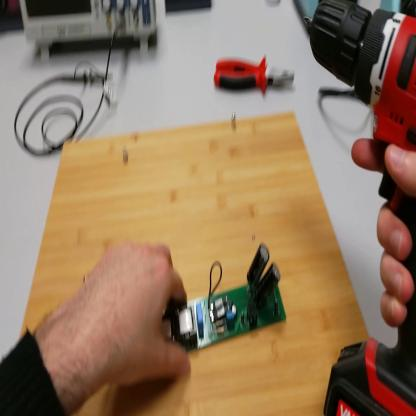electric screwdriver: (307, 2, 416, 415)
hand: (59, 239, 191, 394), (352, 121, 416, 332)
high voltage board: (163, 243, 286, 360)
oscilloscope: (21, 2, 157, 63)
oscilloscope probe tip: (60, 72, 115, 90)
pliers: (212, 57, 299, 95)
welder station: (294, 2, 409, 46)
working area: (21, 111, 378, 414)
